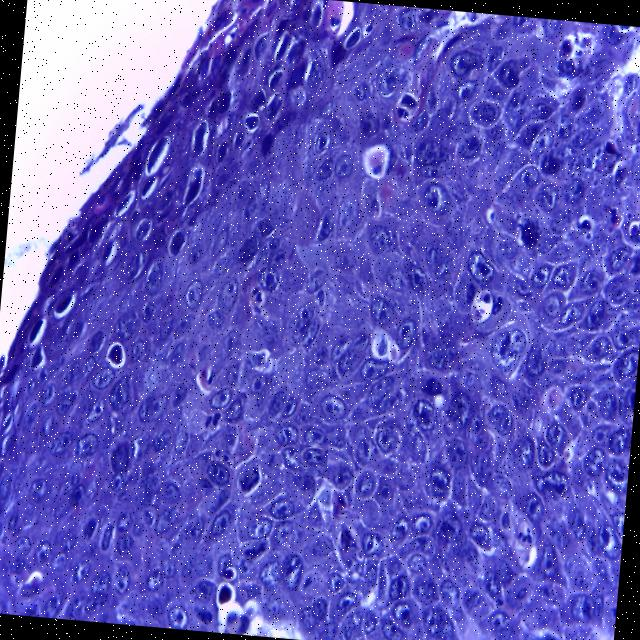Multiple Nucleol: (313, 391, 348, 419), (200, 460, 229, 489), (298, 445, 326, 468)
